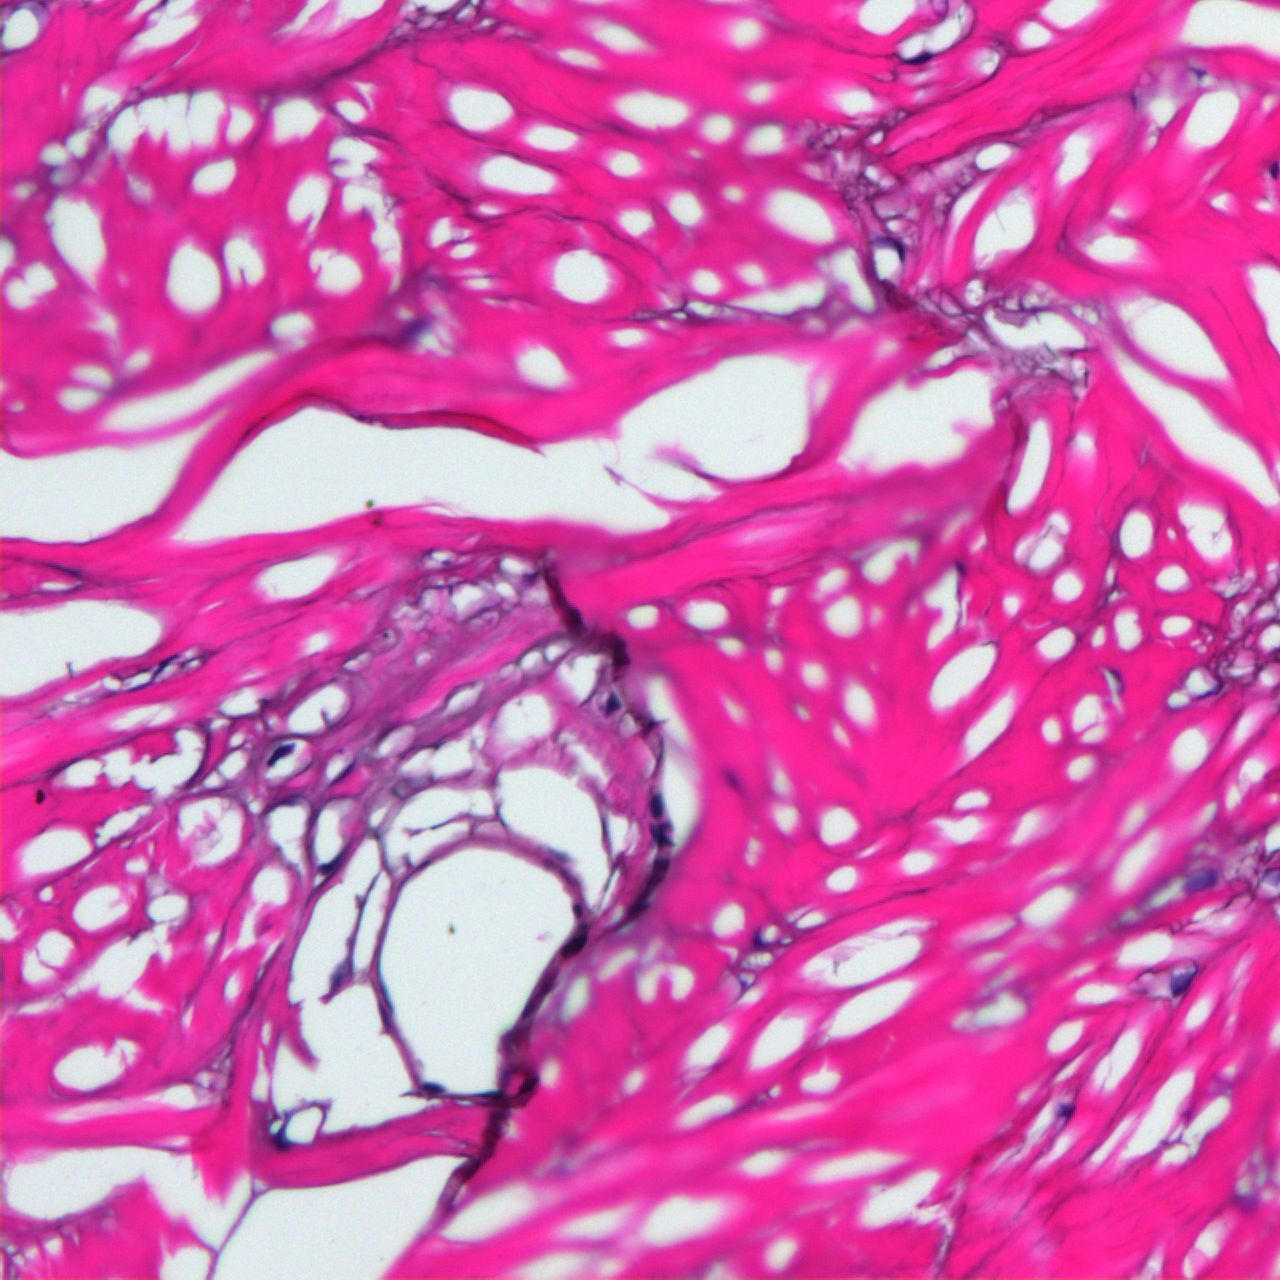nucleus-HE: (264, 736, 295, 769), (561, 930, 590, 958), (905, 48, 933, 69), (602, 690, 624, 717), (518, 1074, 539, 1096), (613, 641, 629, 666), (422, 1080, 443, 1095), (651, 794, 663, 816), (520, 1003, 535, 1019), (1058, 1107, 1073, 1121), (274, 1137, 290, 1150), (1269, 161, 1278, 179), (573, 903, 583, 917)
